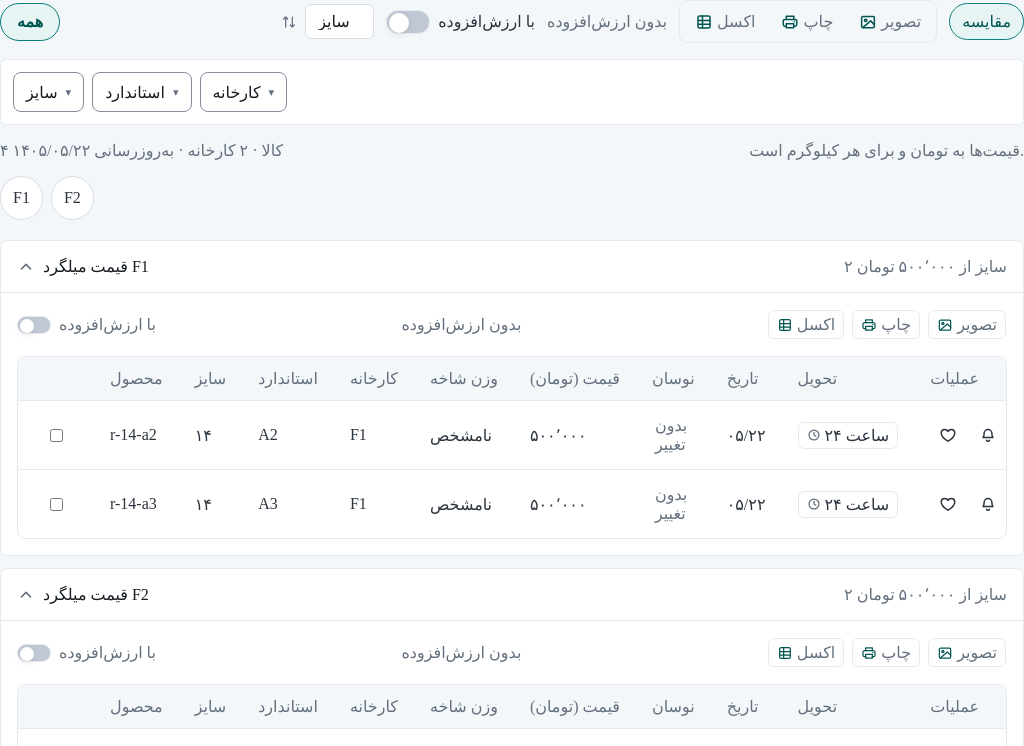
Test: PriceTable — spec filter bar (owner request 1405/06/02) › narrows to exactly the rows matching one selected value (single column)
Click the button "سایز ▾".
click(49, 92)  # box x1=13 y1=72 x2=84 y2=112
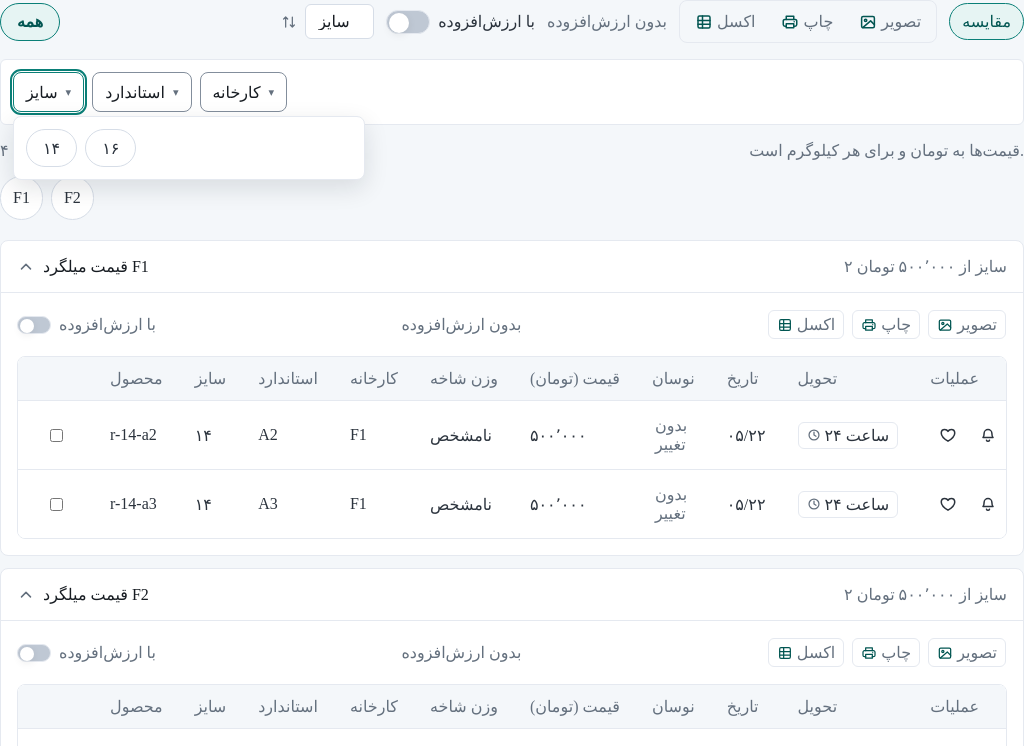
Click the button "۱۴".
click(52, 148)  # box x1=27 y1=130 x2=76 y2=166
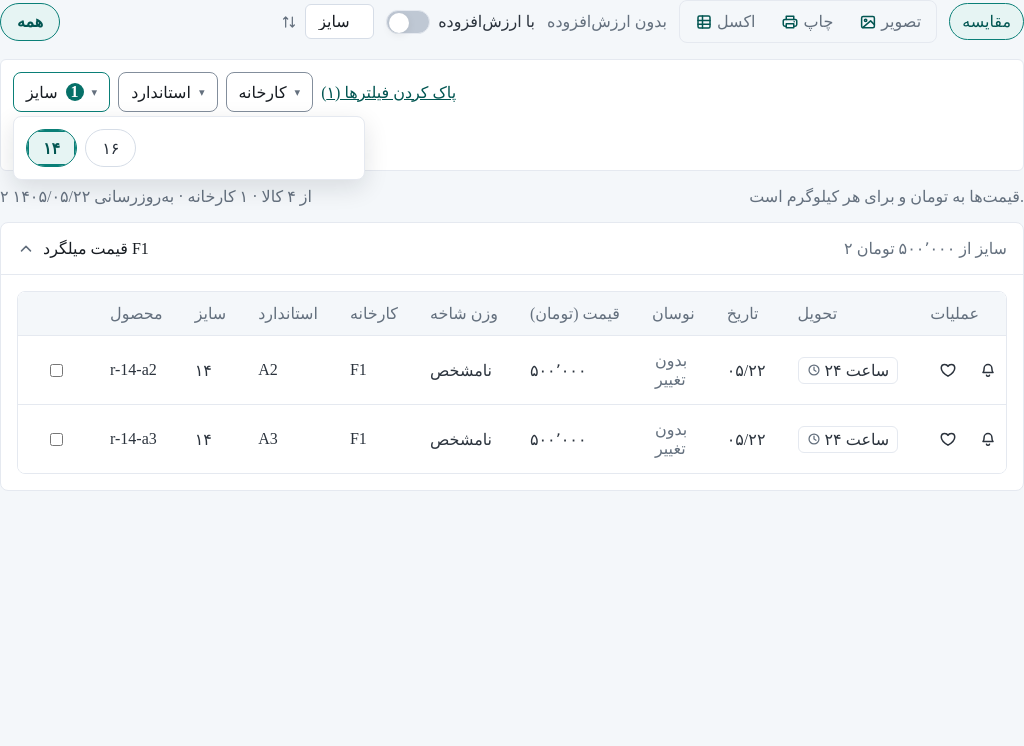
Expected: the link "r-14-a2" is shown, x1=110 y1=361 x2=157 y2=378
Now the text "۲ از ۴ کالا · ۱ کارخانه · به‌روزرسانی ۱۴۰۵/۰۵/۲۲" is shown, box x1=0 y1=187 x2=312 y2=206
Now the button "سایز 1 ▾" is shown, box x1=13 y1=72 x2=110 y2=112
